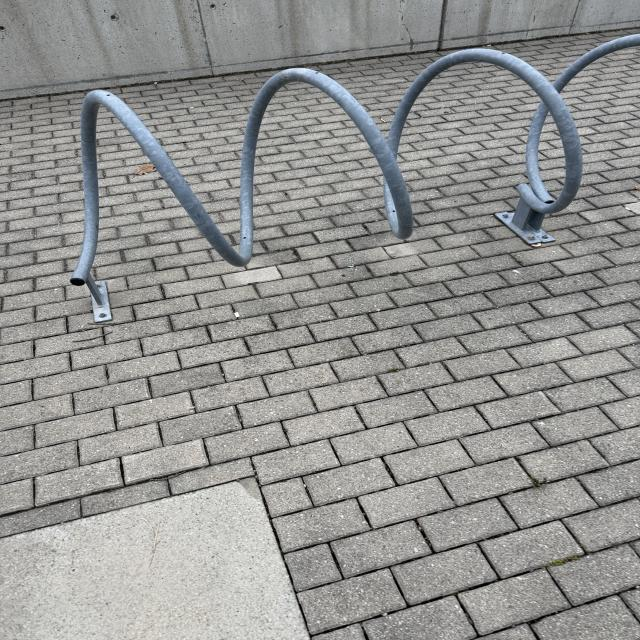Bicycle Rack: (60, 35, 640, 322)
